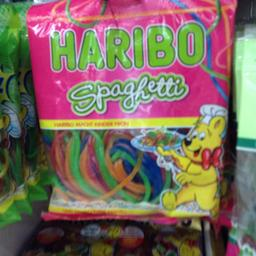candy: (25, 2, 232, 222)
